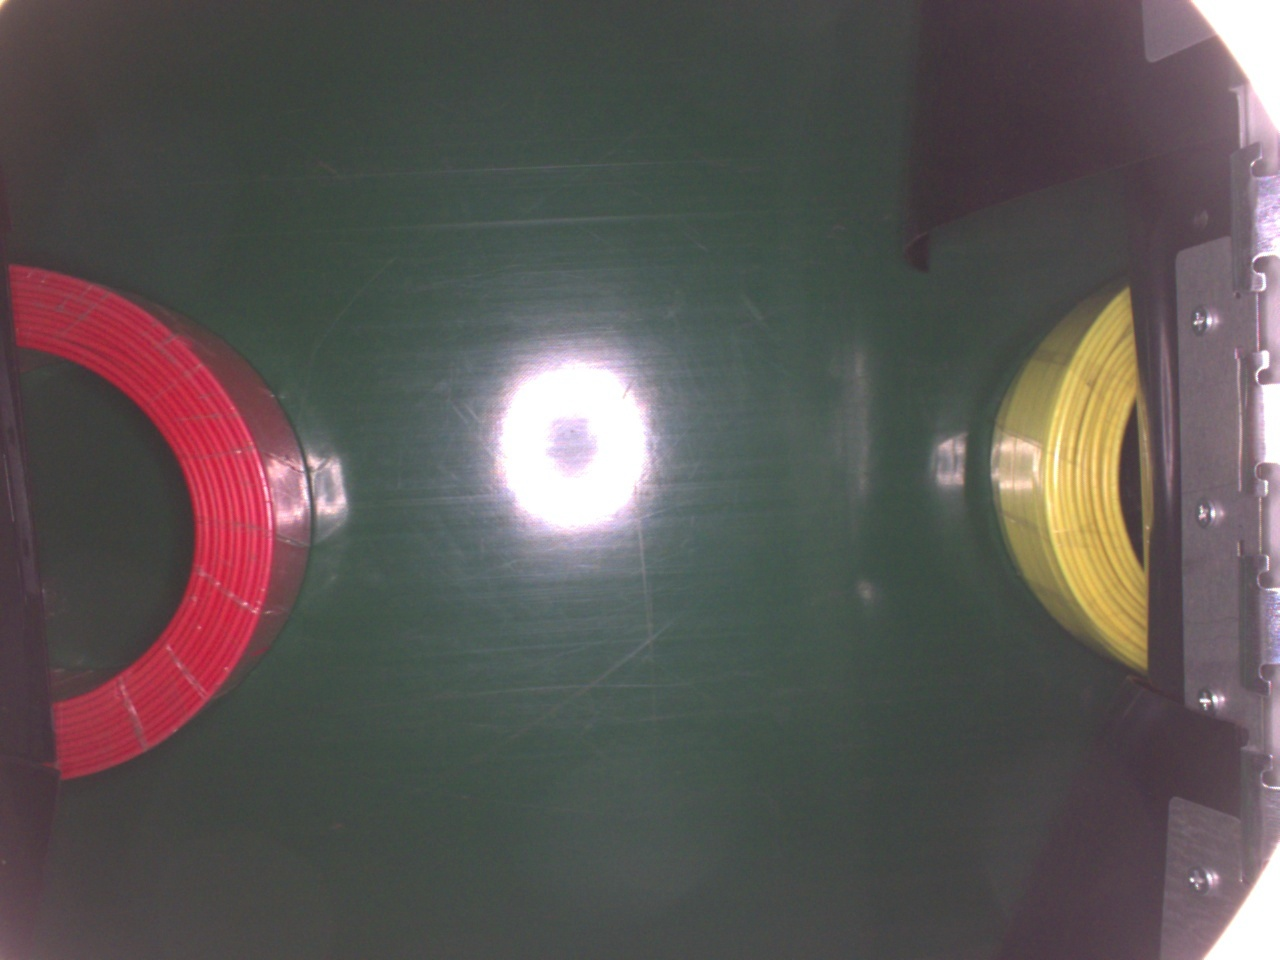red: (6, 256, 314, 787)
yellow: (983, 270, 1151, 675)
